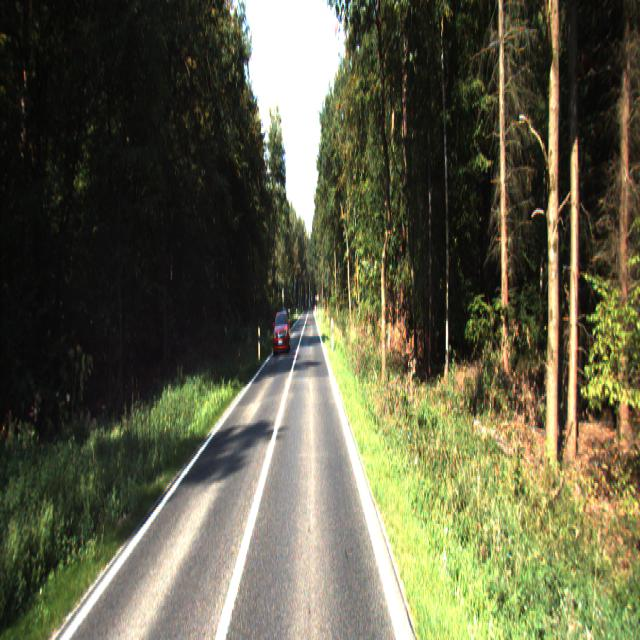Car: (272, 310, 291, 356)
